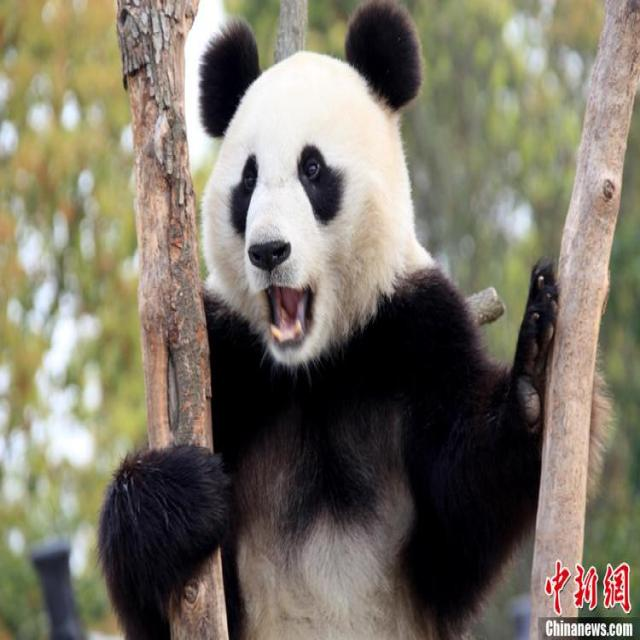panda: (97, 0, 608, 640)
